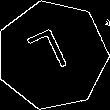L_SE: (27, 26, 77, 84)
